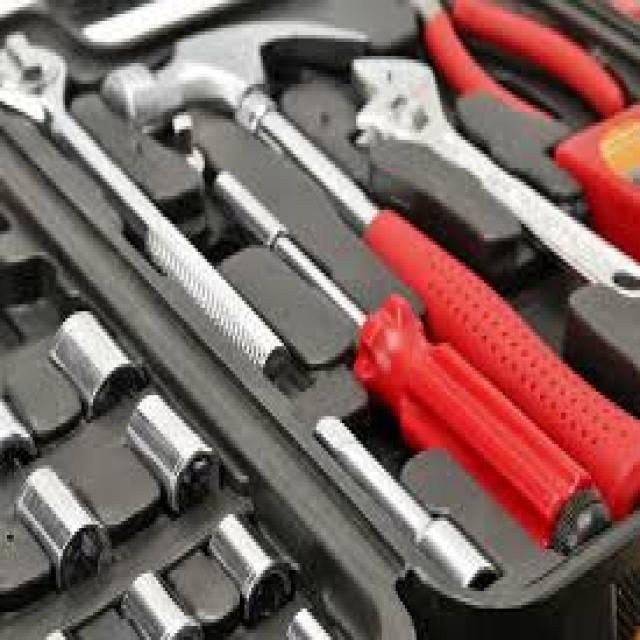hammer: (103, 21, 640, 516)
screw_driver: (215, 177, 610, 551)
wire_cutter: (415, 0, 625, 117)
wrench: (354, 61, 640, 283)
